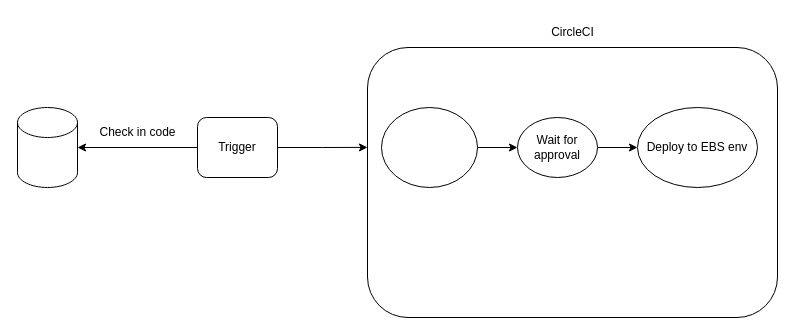
Some shapes in this 795 by 335 pixel diagram are drawn without their labels. The shapes that lost their labels are listed below. From the top down, each one's box as (x1, y1, x2, y2) in pixels, then its label:
(16, 106, 78, 188): Github repo
(380, 106, 478, 188): Build frontend + backend
